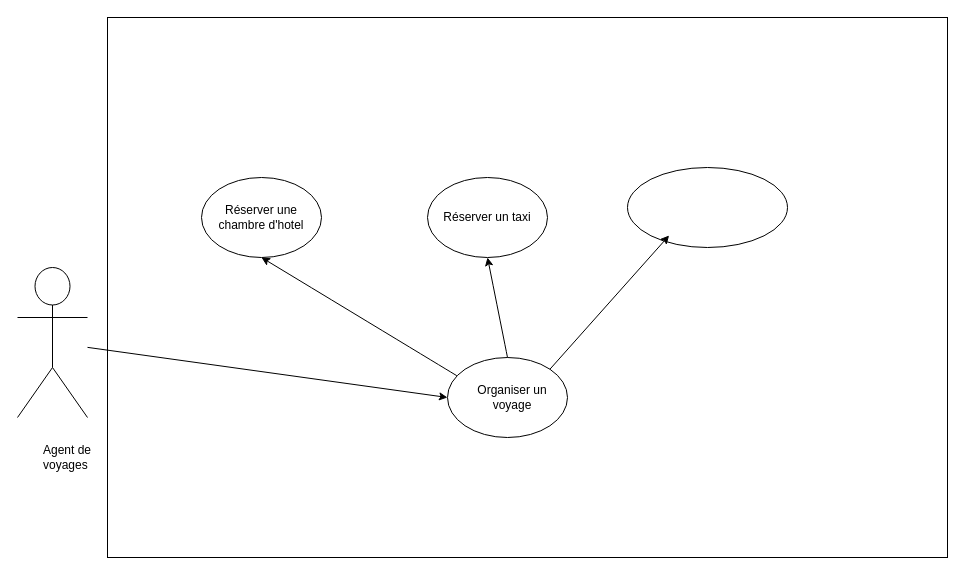
Image size: 965x575. Some labels were removed from this diagram. The shapes that lost their labels are listed below. From the top down, each one's centre as x and y in pixels, then its label:
At (x=707, y=207): "Réserver un billet de train".
At (x=52, y=342): "Actor".
